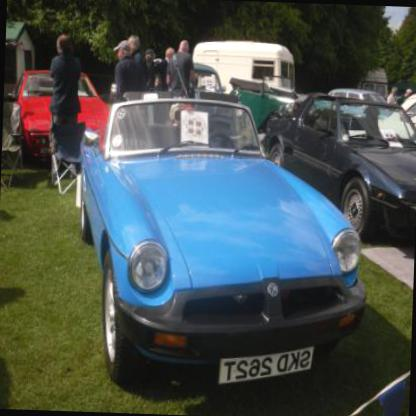car: (69, 87, 379, 395), (261, 90, 415, 251), (3, 61, 119, 162), (189, 64, 294, 136), (397, 88, 415, 158)
